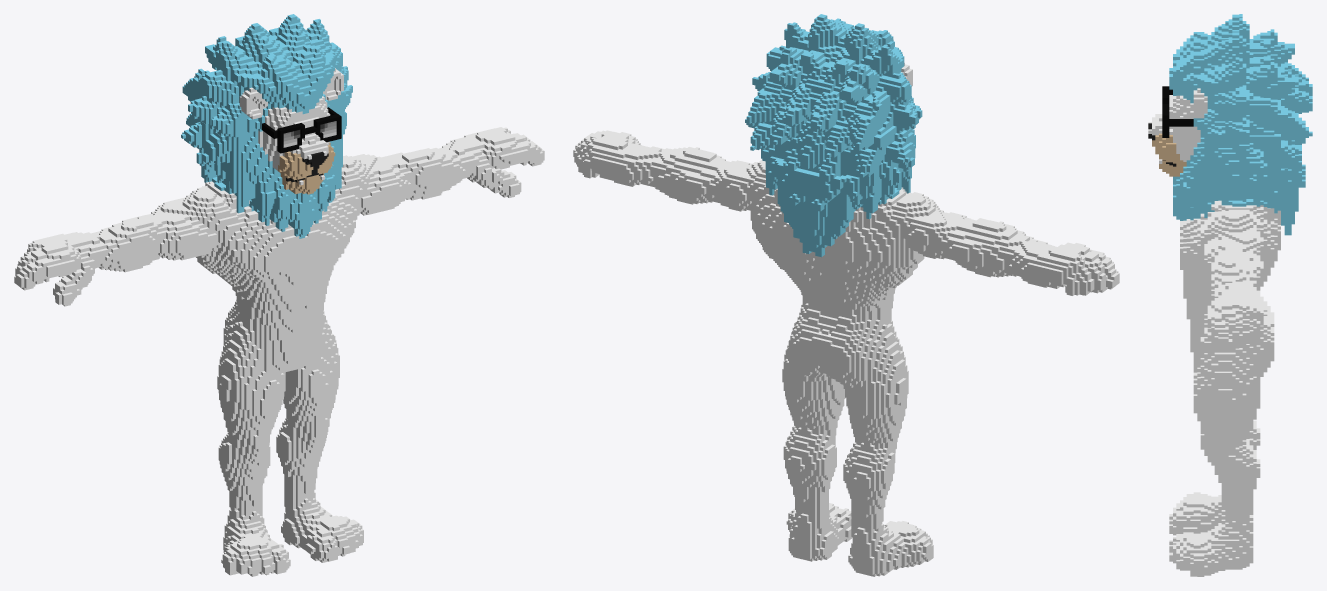
Rendered from 618-CXBbwuF3.glb.
3 renders of one model, left to right at view 1: azimuth 30°, elevation 25°; view 2: azimuth 150°, elevation 25°; view 3: azimuth 270°, elevation 25°, orthographic. The views are drawn at different scales.
Visible parts, largest first — view 1: standard; view 2: standard; view 3: standard.
Boxes of the visible parts, x1=… form: standard: x1=14, y1=14, x2=544, y2=576; standard: x1=573, y1=14, x2=1119, y2=576; standard: x1=1148, y1=14, x2=1312, y2=576.
Size of the model in its own units: 17.2 by 16.5 by 4.7.
4 materials, 4 textured.
